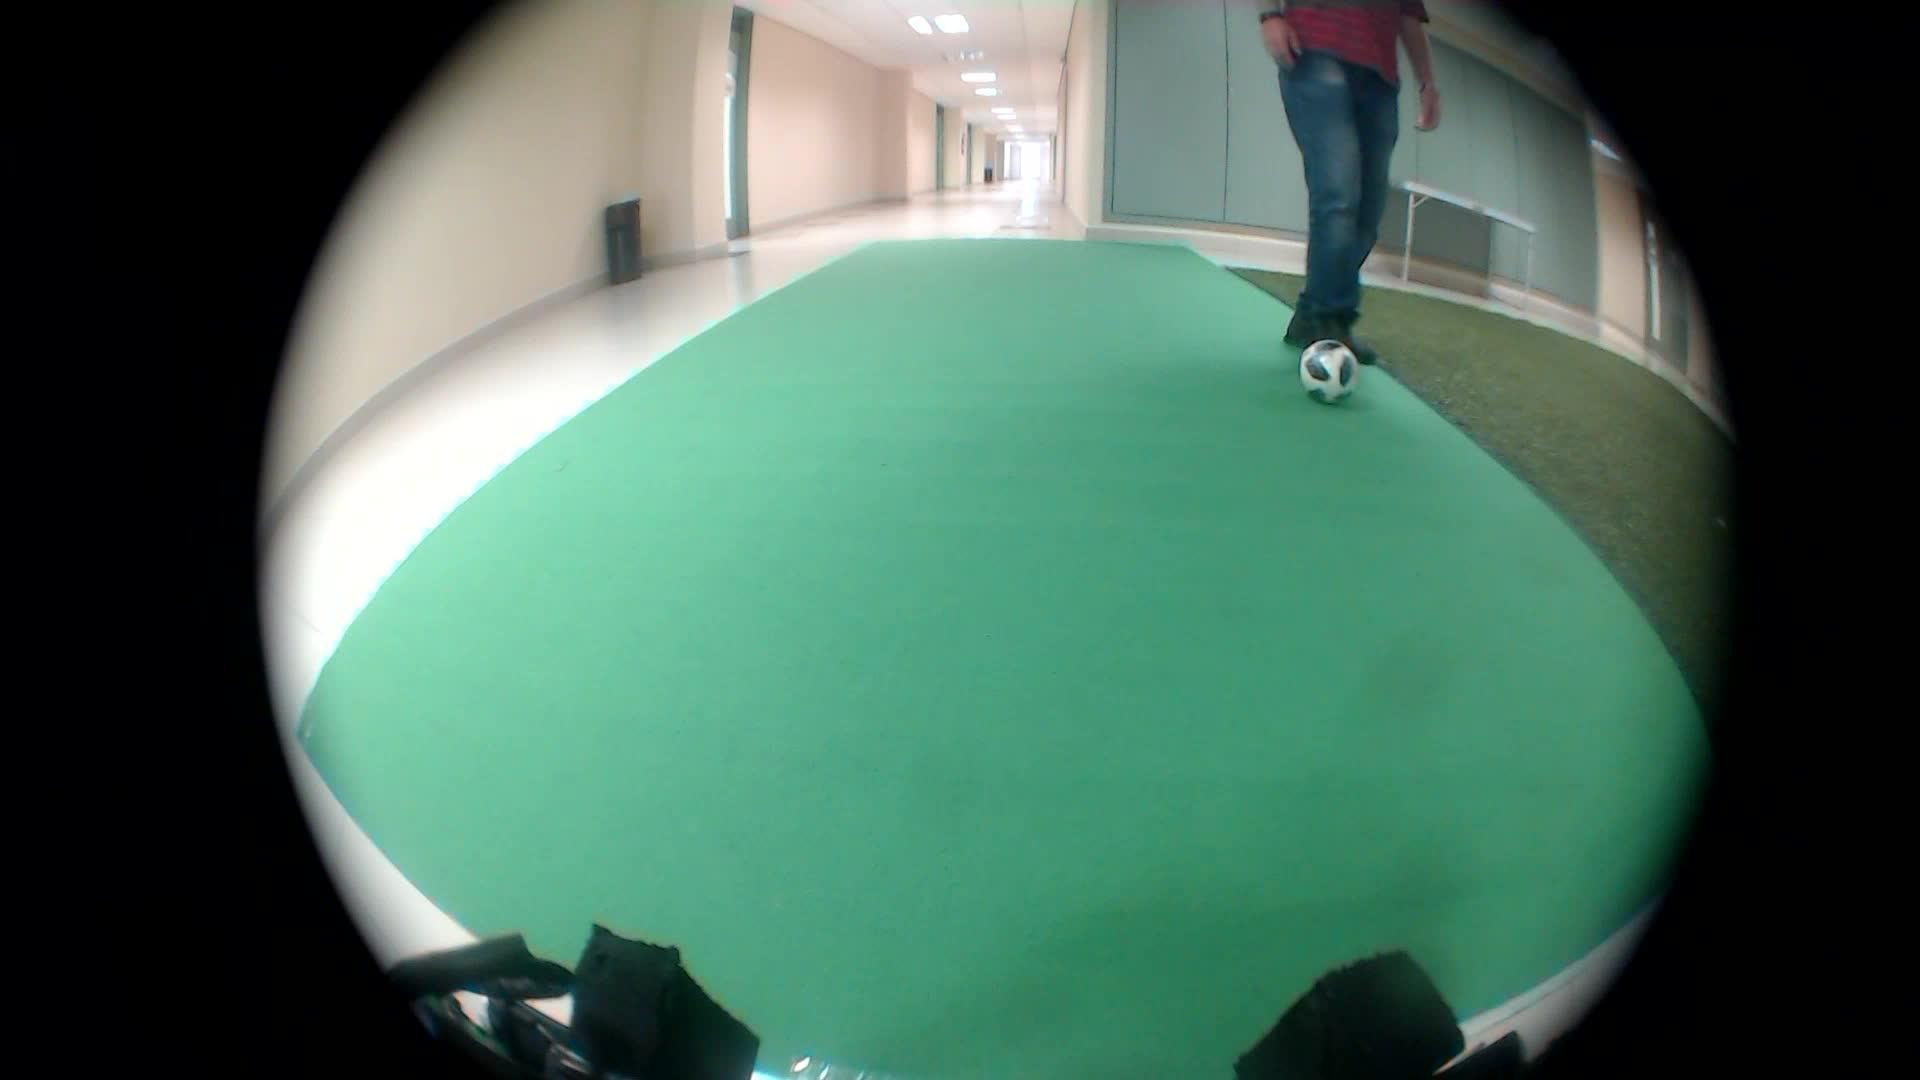ball: (1288, 340, 1361, 423)
